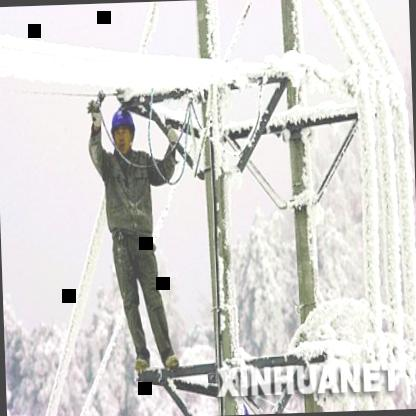helmet: (106, 102, 136, 154)
